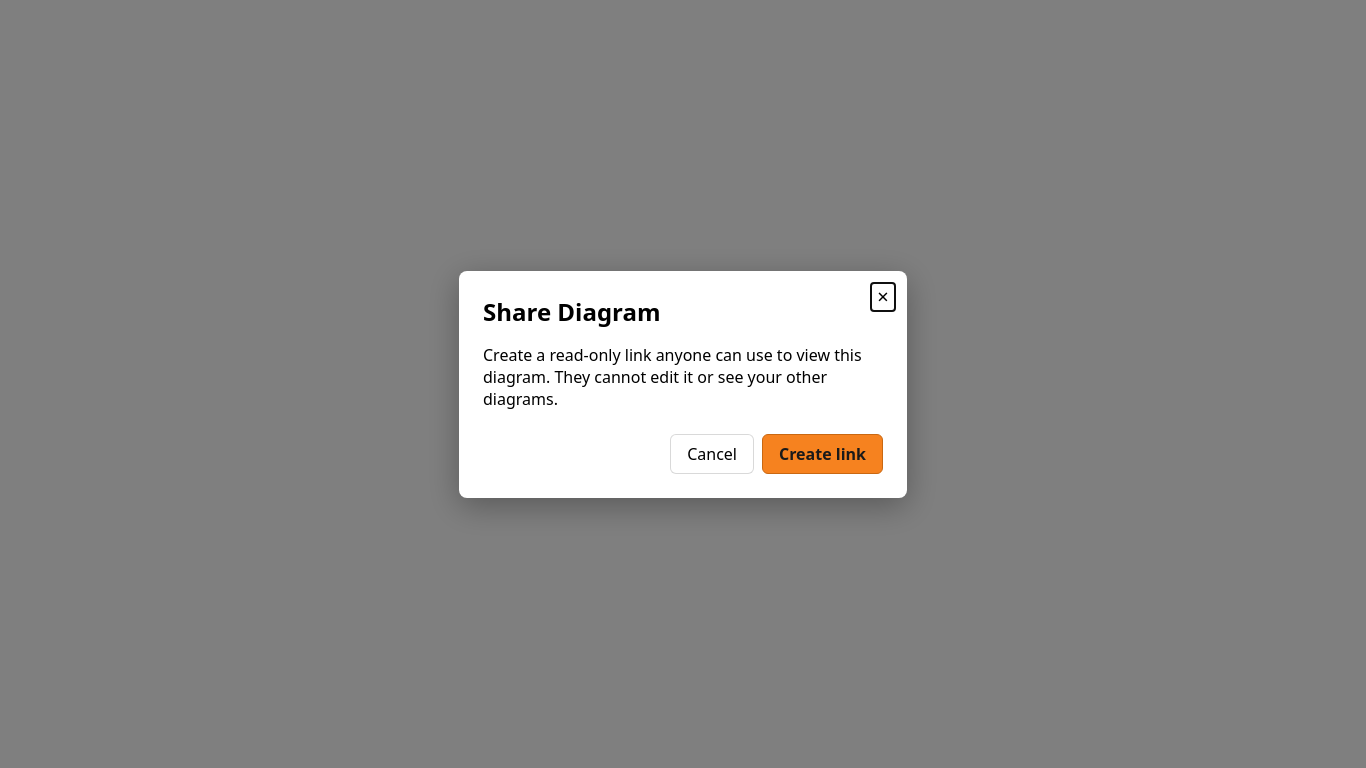
Test: ShareModal › creates a share and reveals its one-time URL with a copy button
Click the button "Create link". click: (822, 454)
box: [762,434,883,474]
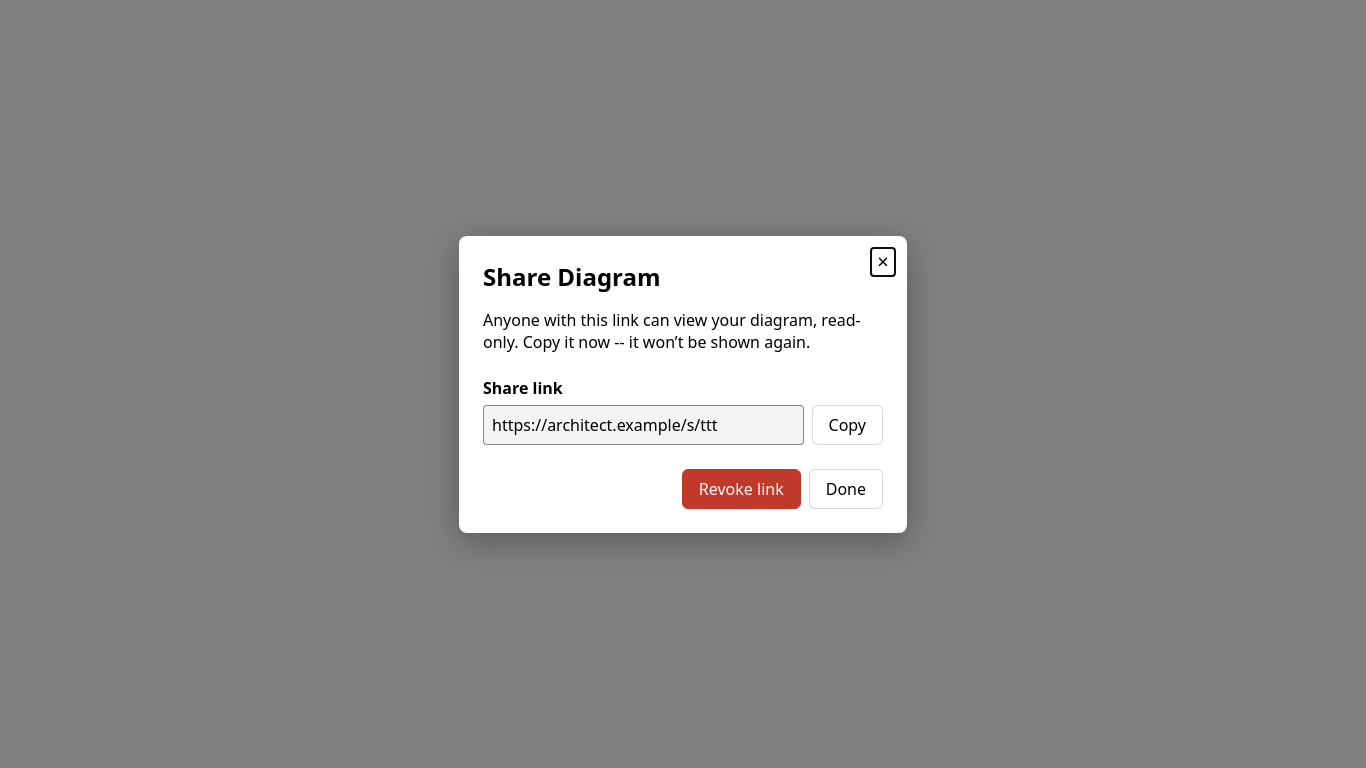
Expected: the field labelled "Share link" holds "https://architect.example/s/ttt", [483,404,804,444]
Click the button "Copy". click: (847, 424)
box: [812,404,883,444]
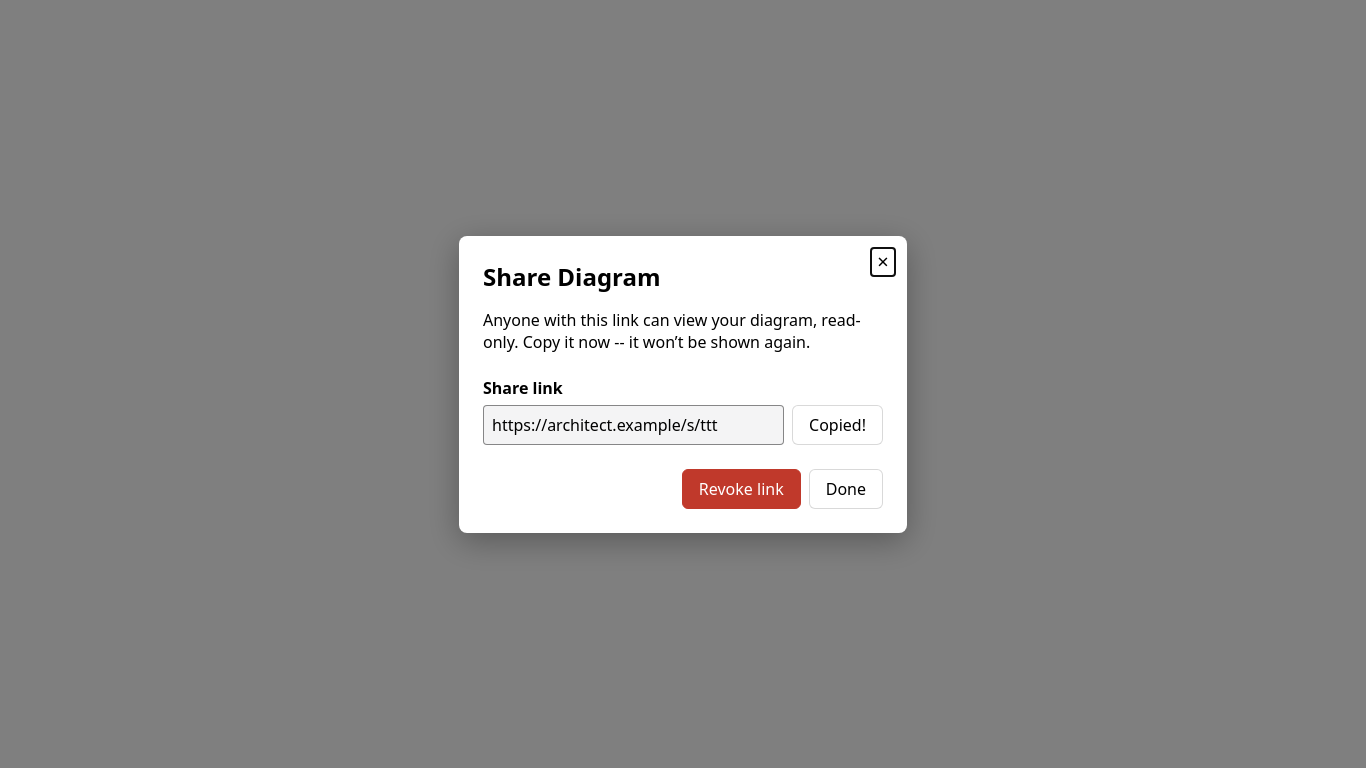
Expected: the button "Copied!" is shown, [792,404,883,444]
